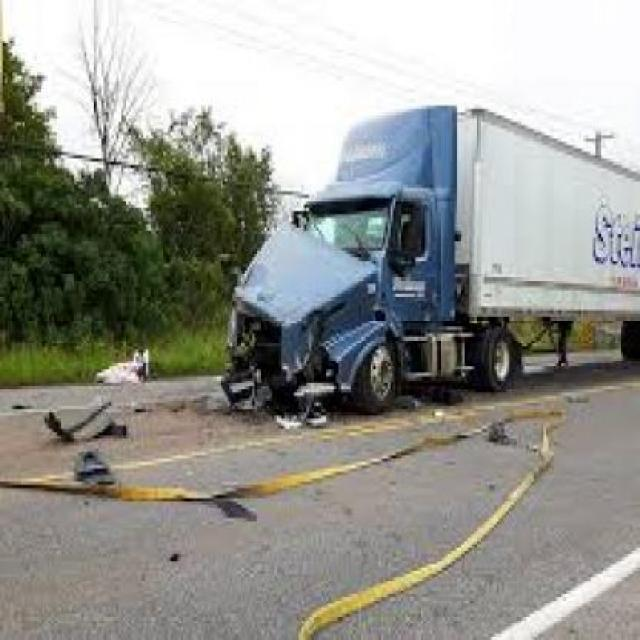accident: (227, 102, 638, 406)
